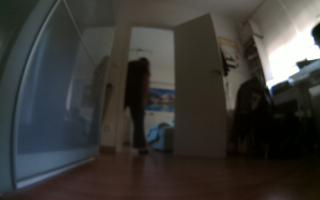person: (122, 55, 157, 156)
